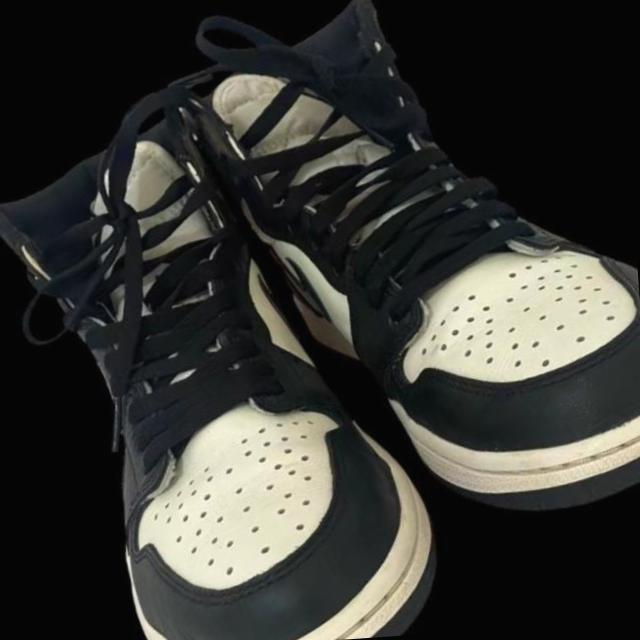nike_original_jordan: (126, 0, 640, 626), (0, 43, 522, 640)
